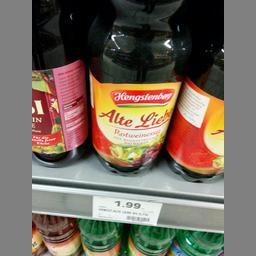vinegar: (84, 0, 186, 175)
